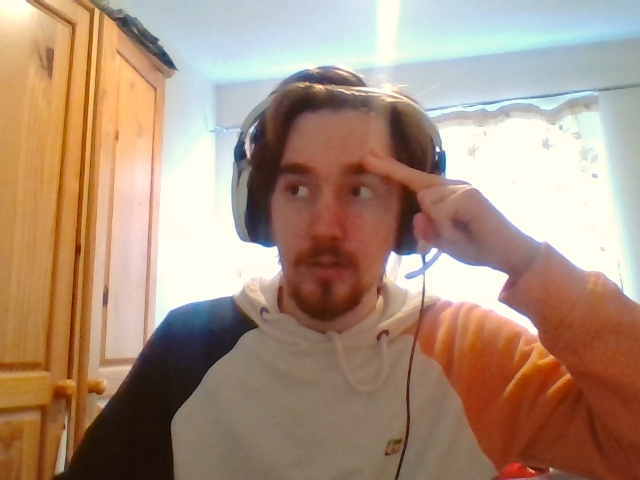name: (363, 148, 485, 256)
